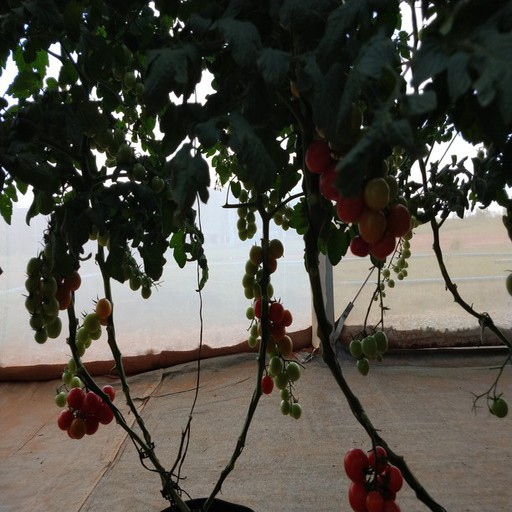green tomato bunch: (80, 205, 158, 298), (57, 296, 114, 408), (243, 239, 280, 345), (23, 250, 61, 343), (348, 330, 391, 377), (259, 184, 298, 232), (227, 179, 258, 239)
mixed tomato bunch: (254, 298, 304, 421)
red tomato bunch: (305, 119, 413, 262), (345, 445, 404, 512), (59, 384, 115, 441)
